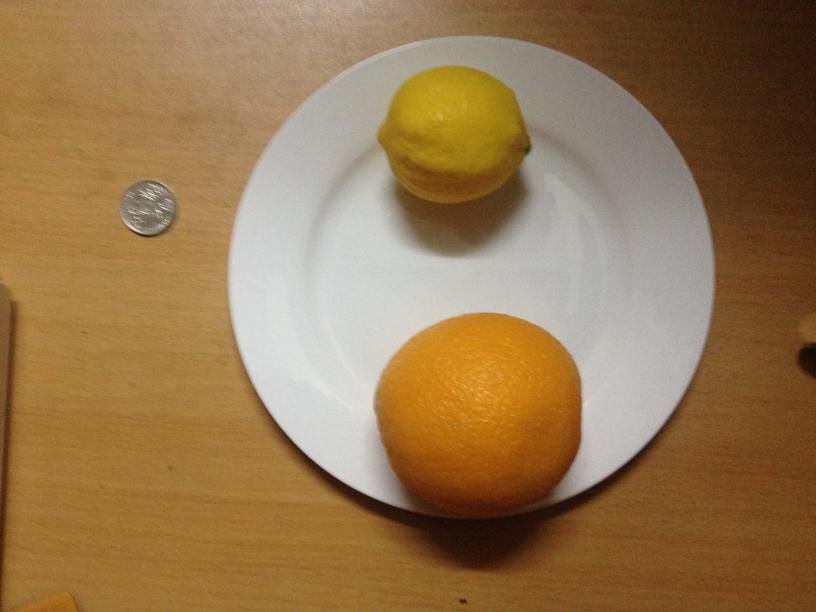coin: (117, 179, 176, 236)
lemon: (375, 65, 531, 201)
orange: (372, 318, 582, 512)
